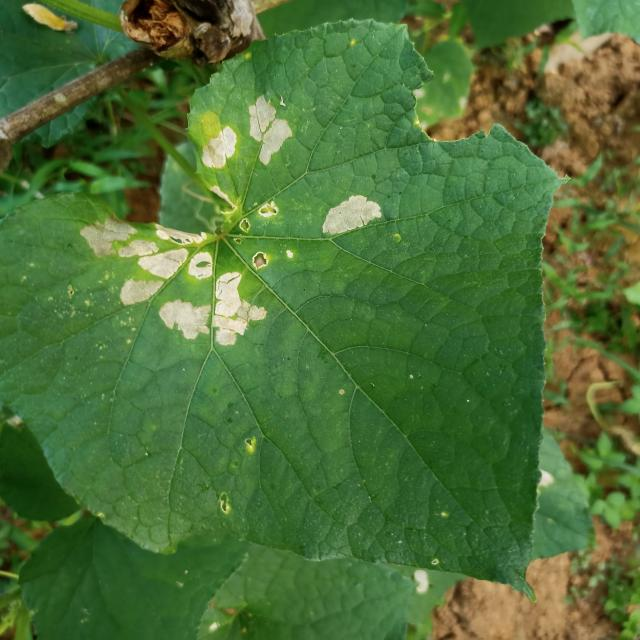disease_cucumber: (71, 211, 272, 347), (246, 92, 294, 168), (320, 194, 383, 237), (200, 124, 238, 170), (238, 201, 282, 235)
